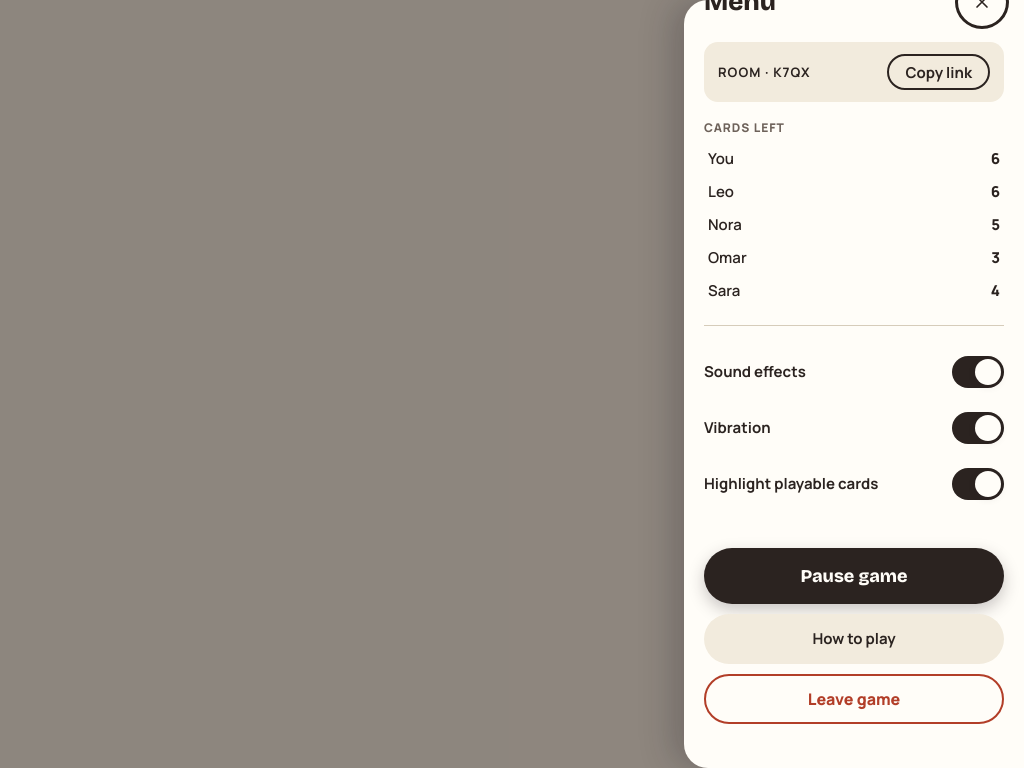
Test case: 05-menu — the in-game menu drawer › opens the leave-confirm dialog when Leave game is pressed
(page scrolled)
What coordinates should you click on to do the following:
click the button "Leave game"
I would click on:
 (854, 699)
Its box is [704,674,1004,724].
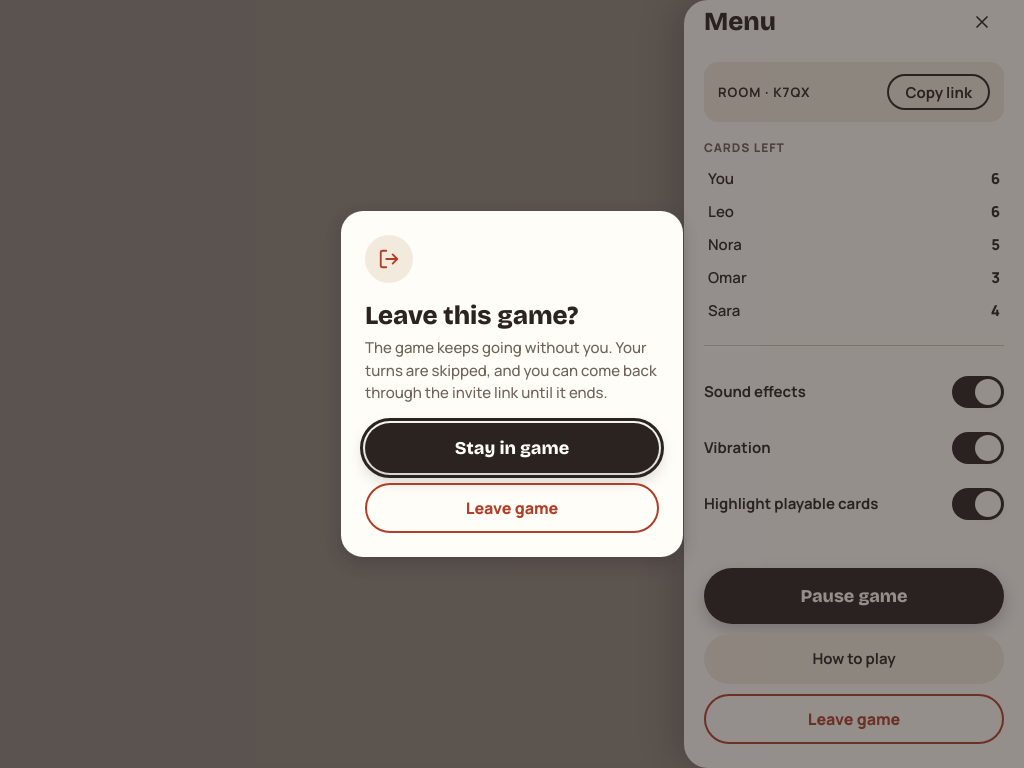
Expected: the dialog "Leave this game?" is shown, [341,211,683,557]
Expected: the button "Stay in game" is shown, [365,423,659,473]
Expected: the button "Leave game" is shown, [365,483,659,533]
